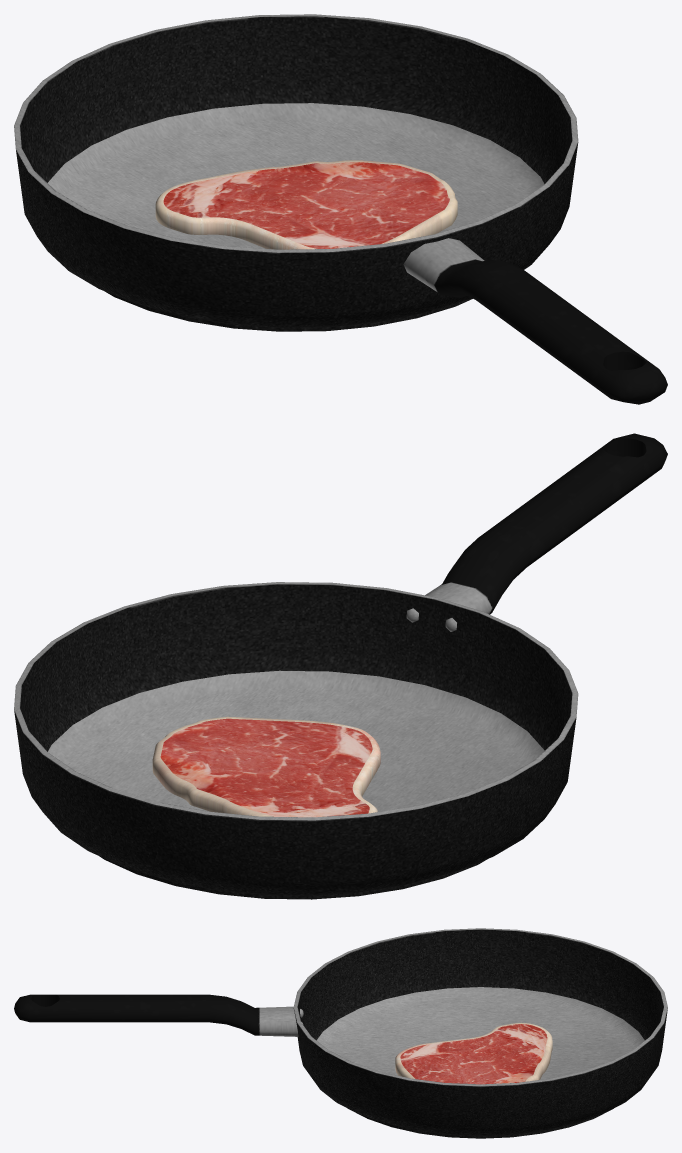
The picture shows the model from 3 angles, top to bottom: view 1: azimuth 30°, elevation 25°; view 2: azimuth 150°, elevation 25°; view 3: azimuth 270°, elevation 25°; orthographic projection. The views are drawn at different scales.
Visible parts, largest first — view 1: Fry_pan, Steak.001; view 2: Fry_pan, Steak.001; view 3: Fry_pan, Steak.001.
Boxes of the visible parts, bbox=[...] form: Fry_pan: bbox=[14, 14, 667, 404]; Steak.001: bbox=[155, 160, 457, 249]; Fry_pan: bbox=[14, 433, 667, 899]; Steak.001: bbox=[152, 716, 380, 817]; Fry_pan: bbox=[14, 928, 667, 1138]; Steak.001: bbox=[395, 1022, 552, 1084].
Bounding box in the file's own units: 0.28 × 0.0598 × 0.4891.
3 materials, 3 textured.
